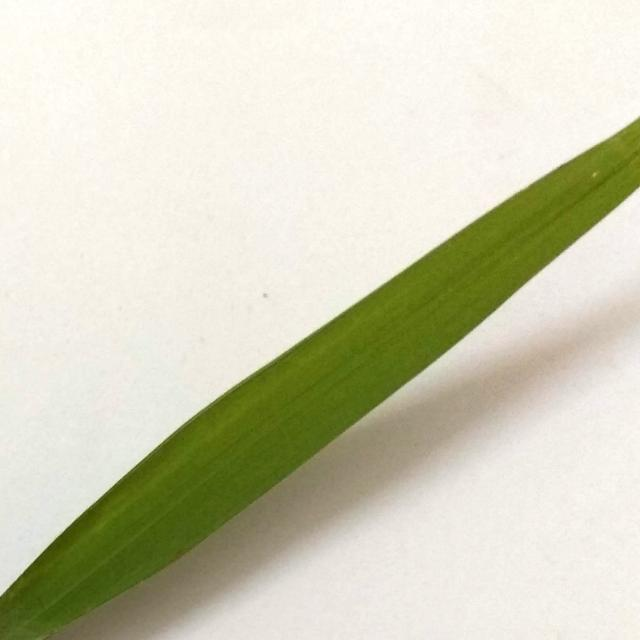Rice_Healthy: (0, 118, 640, 640)
